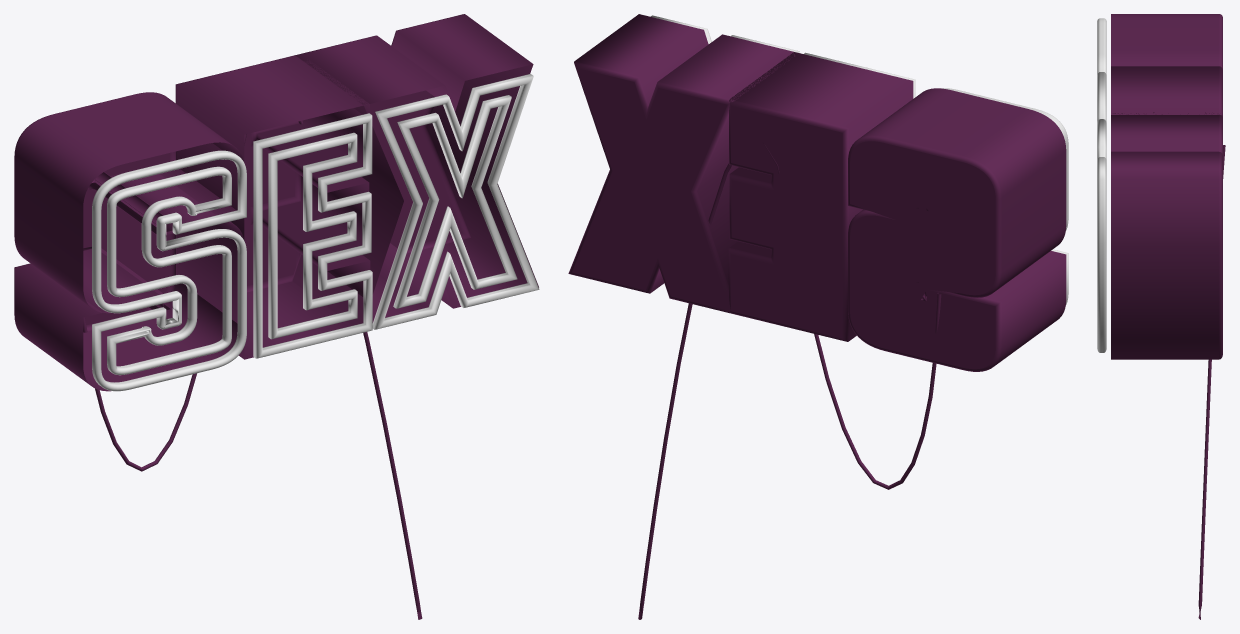
Rendered from cartelNeonSex.fbx.
3 views of the same model, side by side, from view 1: azimuth 30°, elevation 25°; view 2: azimuth 150°, elevation 25°; view 3: azimuth 270°, elevation 25° (orthographic). The views are drawn at different scales.
Parts seen in each view (by area): view 1: BezierCurve, Text.002_Text.004; view 2: BezierCurve, Text.002_Text.004; view 3: BezierCurve, Text.002_Text.004.
Boxes of the visible parts, x1,y1,x2,y2 form: BezierCurve: [14, 14, 538, 619]; Text.002_Text.004: [92, 74, 539, 391]; BezierCurve: [568, 14, 1066, 619]; Text.002_Text.004: [650, 15, 1068, 304]; BezierCurve: [1111, 14, 1225, 619]; Text.002_Text.004: [1097, 18, 1106, 352].
Bounding box in the file's own units: 128 × 156 × 39.04.
